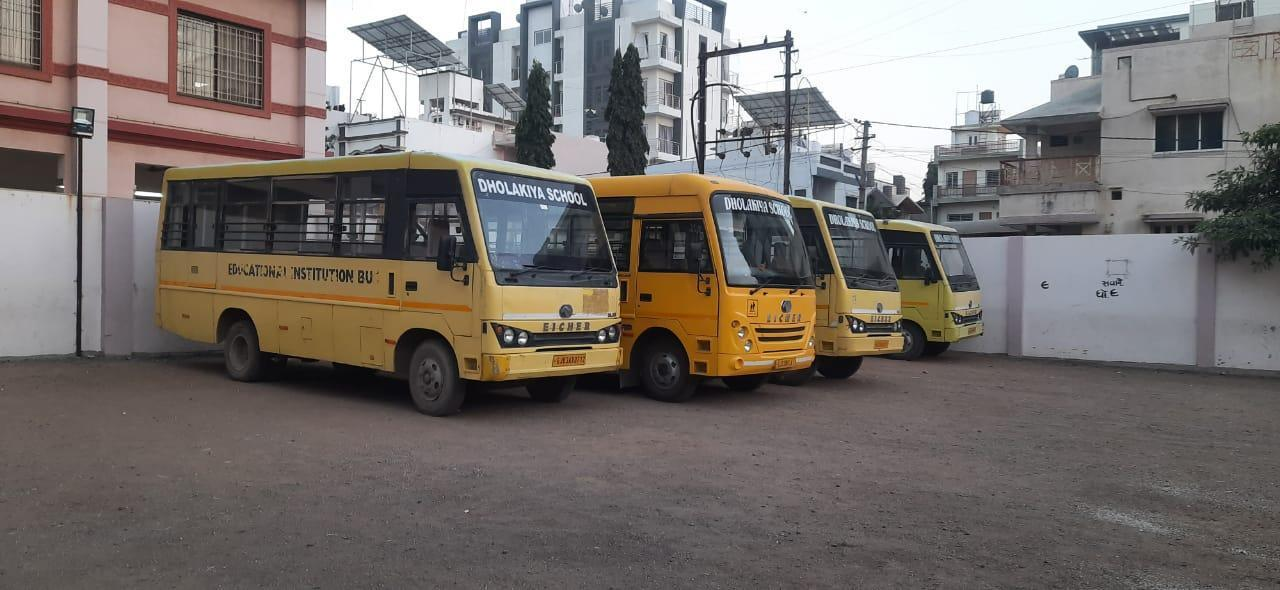Bus: (149, 149, 631, 418), (627, 175, 820, 390), (809, 195, 909, 379), (904, 218, 993, 364)
